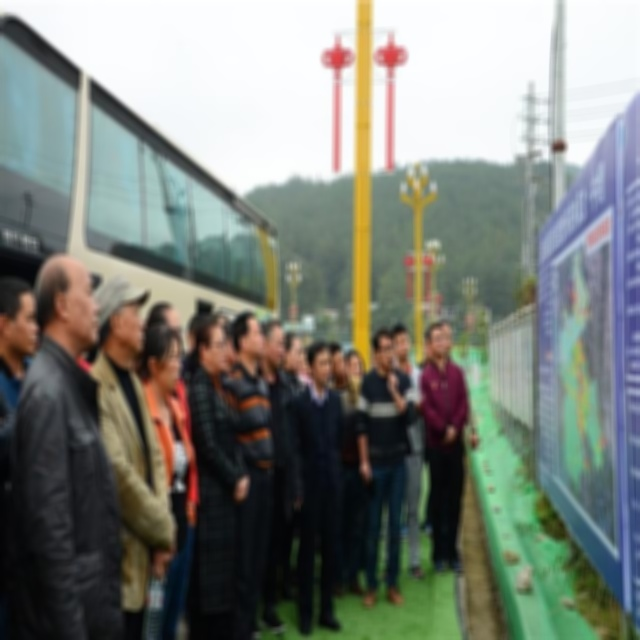Sin_Casco_Mascarrilla: (34, 256, 97, 354), (96, 269, 151, 358), (370, 327, 395, 370), (307, 339, 331, 381)
